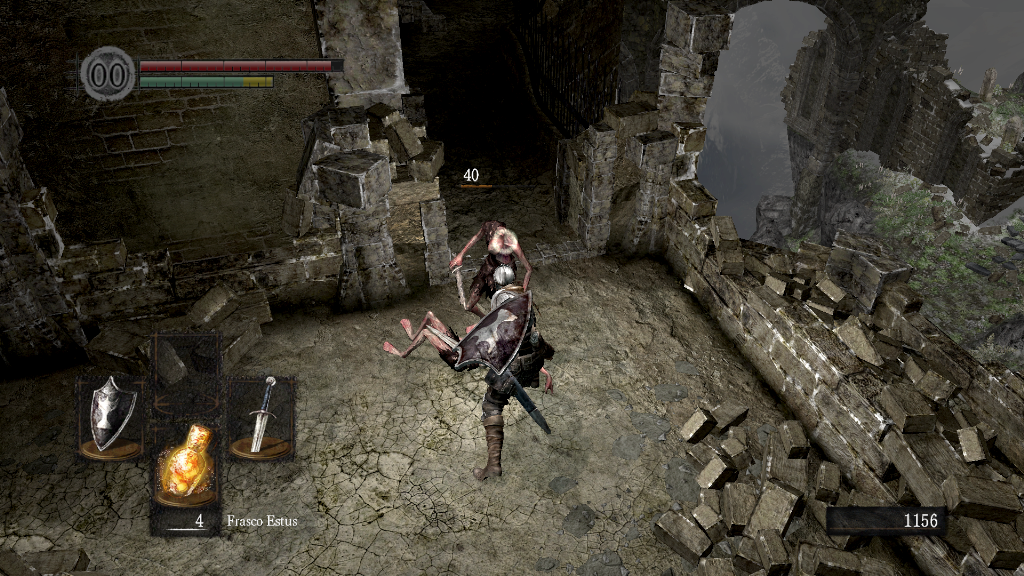health: (138, 58, 343, 71)
hollow: (453, 219, 536, 335)
humanity: (80, 45, 136, 102)
player: (425, 264, 557, 480)
souls: (825, 506, 945, 536)
stamina: (138, 74, 274, 88)
